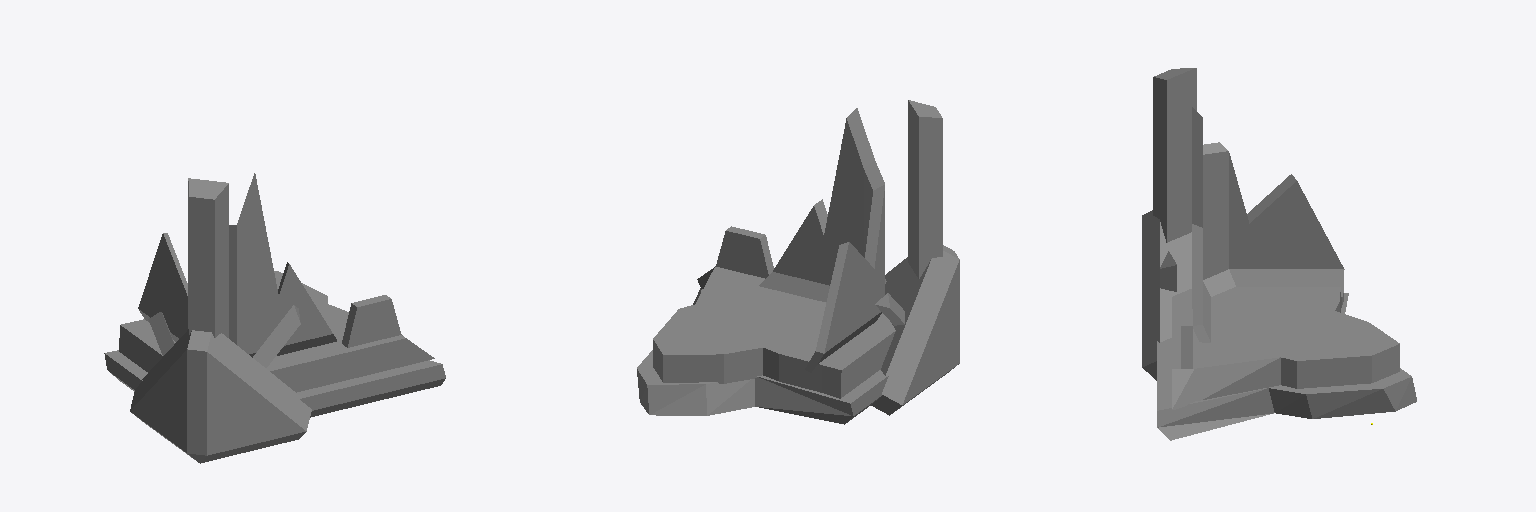
The model's file is cpz_obj_breakboxtall_brk_009.obj.
3 renders of one model, left to right at view 1: azimuth 30°, elevation 25°; view 2: azimuth 150°, elevation 25°; view 3: azimuth 270°, elevation 25°, orthographic.
Visible parts, largest first — view 1: cpz_metal_yy_slop_cmn_dpn, cpz_glass_tn1_glasstube, cpz_metal_st1_tank01_cmn_dpnE, ccp_metal_yy_yelow_Cmn_dpn, cpz_yy1_road_cmn_dp; view 2: cpz_metal_yy_slop_cmn_dpn, cpz_glass_tn1_glasstube, ccp_metal_yy_yelow_Cmn_dpn, cpz_metal_st1_tank01_cmn_dpnE, cpz_yy1_road_cmn_dp; view 3: cpz_metal_yy_slop_cmn_dpn, cpz_glass_tn1_glasstube, ccp_metal_yy_yelow_Cmn_dpn, cpz_metal_st1_tank01_cmn_dpnE, cpz_yy1_road_cmn_dp.
Boxes of the visible parts, x1=… form: cpz_metal_yy_slop_cmn_dpn: x1=104, y1=178, x2=445, y2=463; cpz_glass_tn1_glasstube: x1=138, y1=173, x2=336, y2=357; cpz_metal_st1_tank01_cmn_dpnE: x1=188, y1=181, x2=401, y2=347; ccp_metal_yy_yelow_Cmn_dpn: x1=119, y1=320, x2=434, y2=392; cpz_yy1_road_cmn_dp: x1=148, y1=301, x2=300, y2=367; cpz_metal_yy_slop_cmn_dpn: x1=637, y1=100, x2=959, y2=424; cpz_glass_tn1_glasstube: x1=759, y1=108, x2=884, y2=372; ccp_metal_yy_yelow_Cmn_dpn: x1=653, y1=266, x2=895, y2=398; cpz_metal_st1_tank01_cmn_dpnE: x1=716, y1=100, x2=942, y2=278; cpz_yy1_road_cmn_dp: x1=876, y1=222, x2=942, y2=325; cpz_metal_yy_slop_cmn_dpn: x1=1142, y1=68, x2=1416, y2=440; cpz_glass_tn1_glasstube: x1=1192, y1=107, x2=1344, y2=342; ccp_metal_yy_yelow_Cmn_dpn: x1=1172, y1=289, x2=1399, y2=409; cpz_metal_st1_tank01_cmn_dpnE: x1=1153, y1=68, x2=1196, y2=368; cpz_yy1_road_cmn_dp: x1=1153, y1=185, x2=1191, y2=291.
Size of the model in its own units: 47.08 by 46.64 by 43.05.